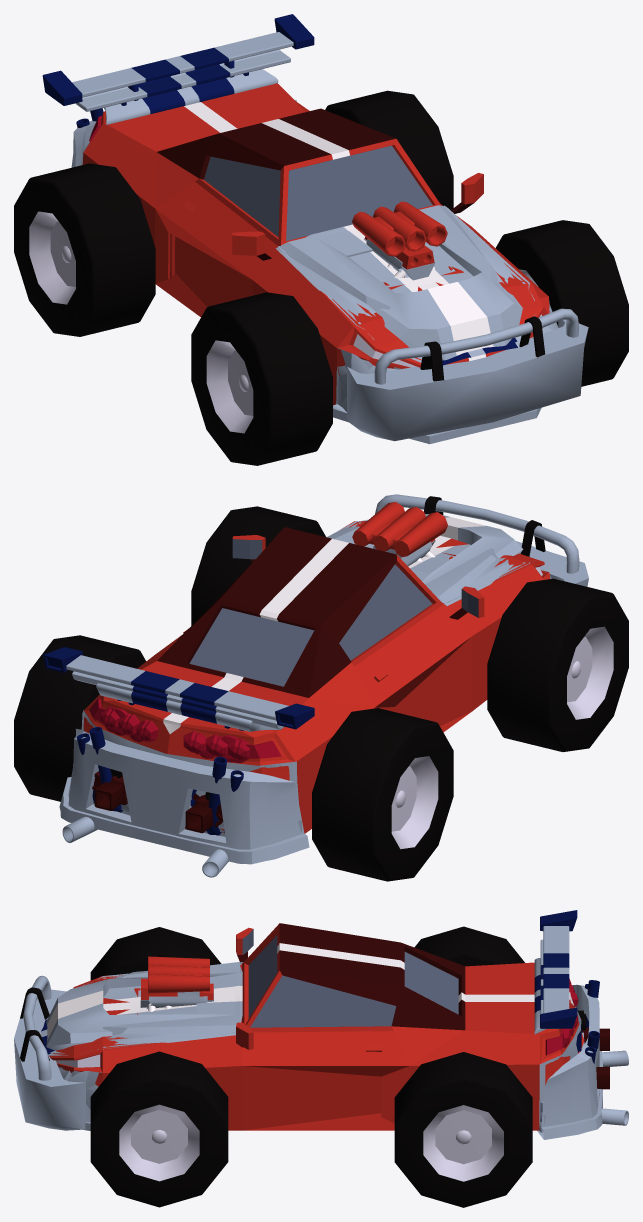
File: sport.fbx
3 renders of one model, top to bottom at view 1: azimuth 30°, elevation 25°; view 2: azimuth 150°, elevation 25°; view 3: azimuth 270°, elevation 25°, orthographic. The views are drawn at different scales.
Visible parts, largest first — view 1: carcas.001, BigWheel.005, BigWheel.004, frontBumper.001, bumper3.001, BigWheel.006, SUVengine2.001, SUVengine1.001, SUVBumper.001, spoiler3.002, BigWheel.007, sedanBumper1 (+10 smaller); view 2: carcas.001, BigWheel.004, BigWheel.005, backBumper.001, bumper3.001, SUVBumper3.001, BigWheel.007, spoiler3.002, BigWheel.006, frontBumper.001, engine2, SUVengine1.001 (+9 smaller); view 3: carcas.001, bumper3.001, BigWheel.006, BigWheel.007, frontBumper.001, SUVengine2.001, sedanBumper1, SUVBumper3.001, backBumper.001, SUVengine1.001, spoiler3.002, BigWheel.005 (+12 smaller).
Boxes of the visible parts, <box> form: carcas.001: <box>82,83,549,405</box>; BigWheel.005: <box>191,292,332,465</box>; BigWheel.004: <box>14,163,155,336</box>; frontBumper.001: <box>347,308,588,441</box>; bumper3.001: <box>155,145,482,375</box>; BigWheel.006: <box>495,220,628,386</box>; SUVengine2.001: <box>278,205,529,360</box>; SUVengine1.001: <box>276,205,513,316</box>; SUVBumper.001: <box>82,100,483,369</box>; spoiler3.002: <box>42,14,314,105</box>; BigWheel.007: <box>325,90,453,210</box>; sedanBumper1: <box>84,141,552,411</box>; carcas.001: <box>84,527,549,833</box>; BigWheel.004: <box>312,708,453,881</box>; BigWheel.005: <box>487,578,628,751</box>; backBumper.001: <box>59,729,309,864</box>; bumper3.001: <box>83,535,484,833</box>; SUVBumper3.001: <box>62,536,484,877</box>; BigWheel.007: <box>14,635,146,801</box>; spoiler3.002: <box>43,647,314,729</box>; BigWheel.006: <box>191,506,325,625</box>; frontBumper.001: <box>362,494,588,586</box>; engine2: <box>352,502,447,566</box>; SUVengine1.001: <box>327,526,513,605</box>; carcas.001: <box>50,923,579,1130</box>; bumper3.001: <box>63,928,609,1130</box>; BigWheel.006: <box>90,1051,228,1207</box>; BigWheel.007: <box>394,1052,532,1207</box>; frontBumper.001: <box>14,975,85,1130</box>; SUVengine2.001: <box>46,962,242,1050</box>; sedanBumper1: <box>71,930,584,1122</box>; SUVBumper3.001: <box>83,932,628,1132</box>; backBumper.001: <box>537,984,602,1139</box>; SUVengine1.001: <box>102,962,241,1044</box>; spoiler3.002: <box>540,910,577,1028</box>; BigWheel.005: <box>90,927,221,980</box>.
Bounding box in the file's own units: 3.79 × 2.16 × 6.47.
